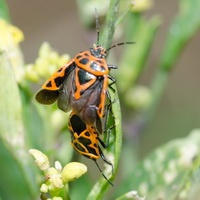insect: (35, 13, 134, 199)
